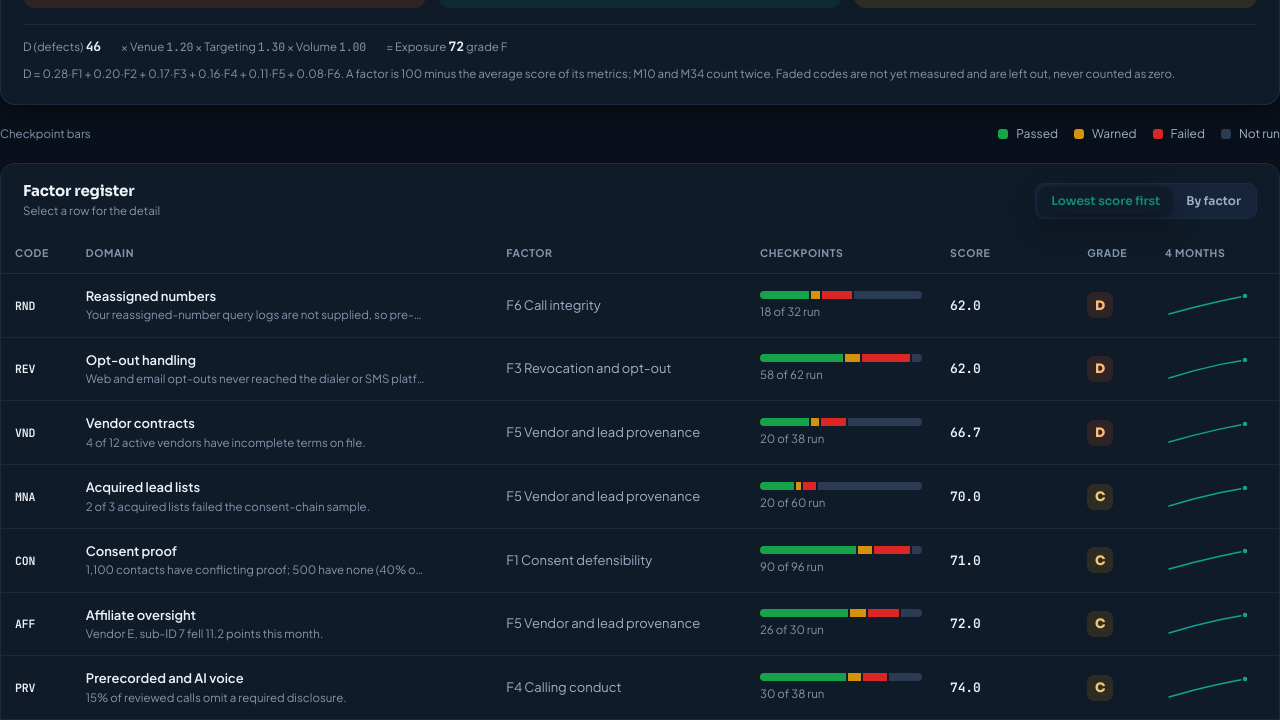
Scenario: interactions › opens a domain panel from the scorecard and switches tabs
The image size is (1280, 720).
(page scrolled)
Click the button "Opt-out handling".
click(141, 360)  # box [86, 351, 196, 370]
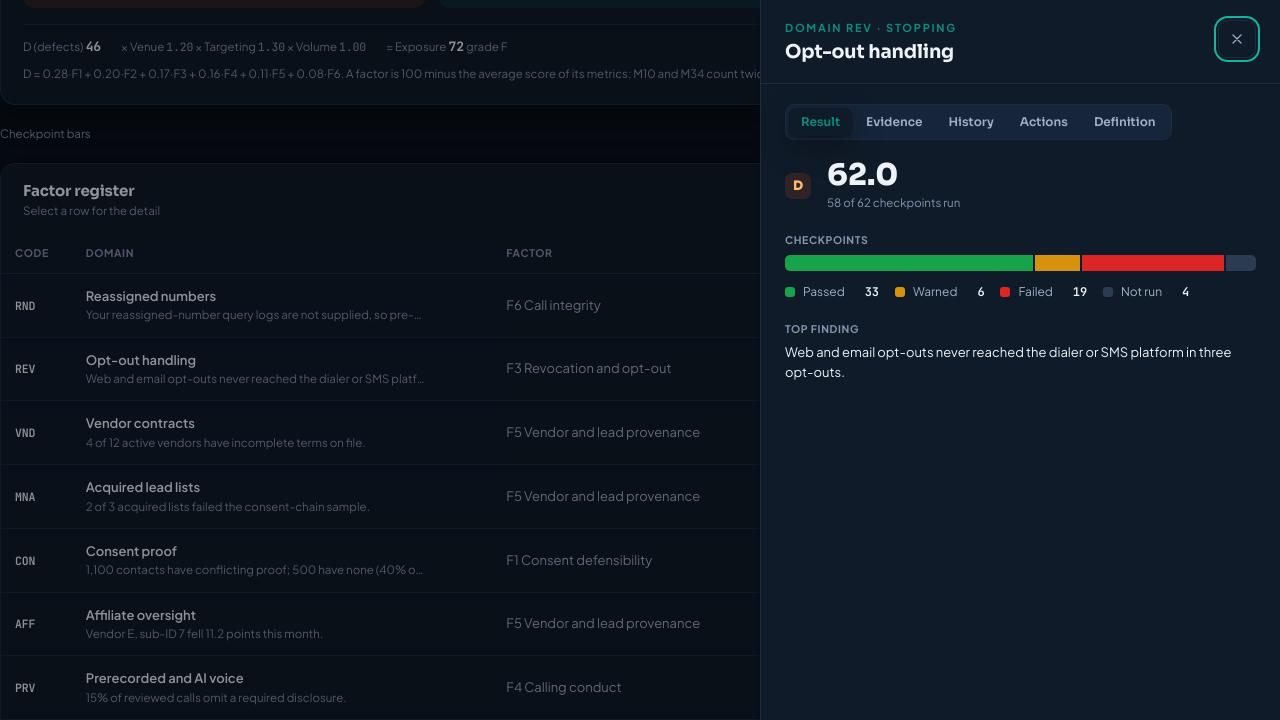
Check: the text "Top finding" is shown, box [785, 322, 859, 335]
Click the button "Definition".
click(1125, 122)  # box [1082, 108, 1168, 136]
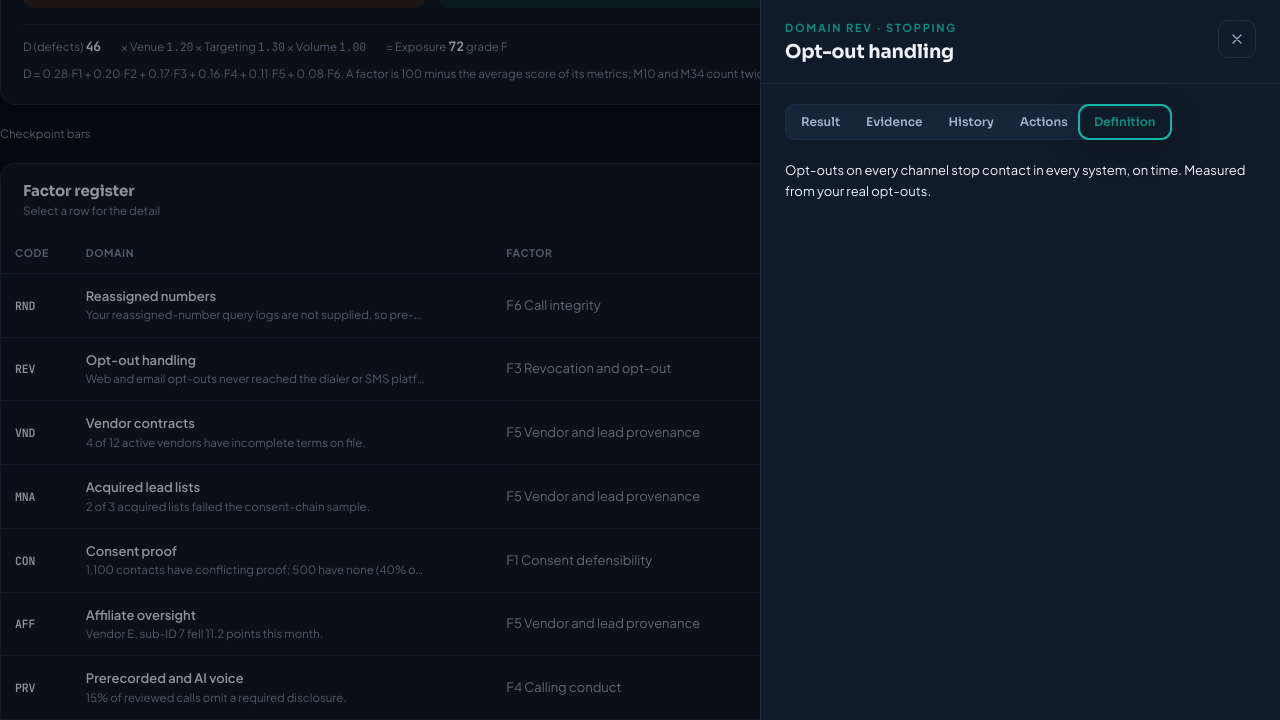
Check: the text "Top finding" is gone
